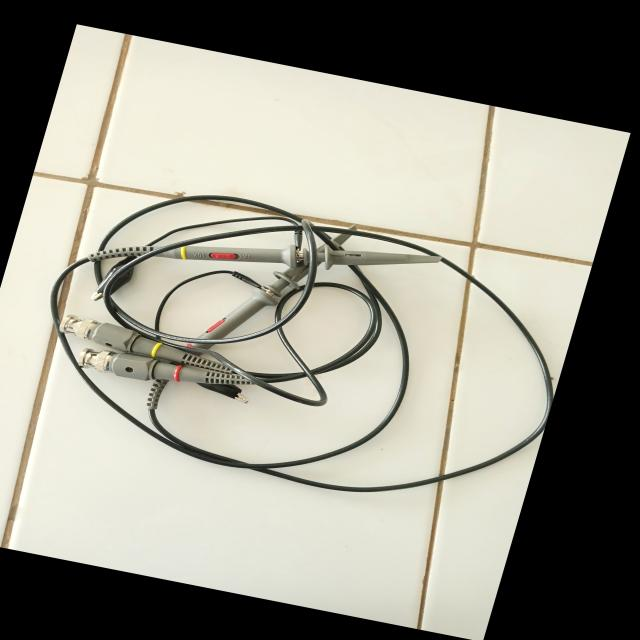CRO Probes: (11, 156, 595, 539)
